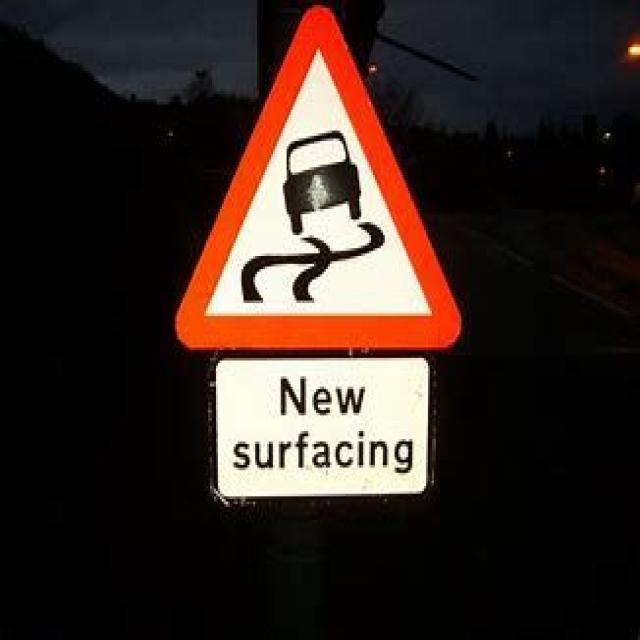slippery road: (179, 16, 467, 356)
